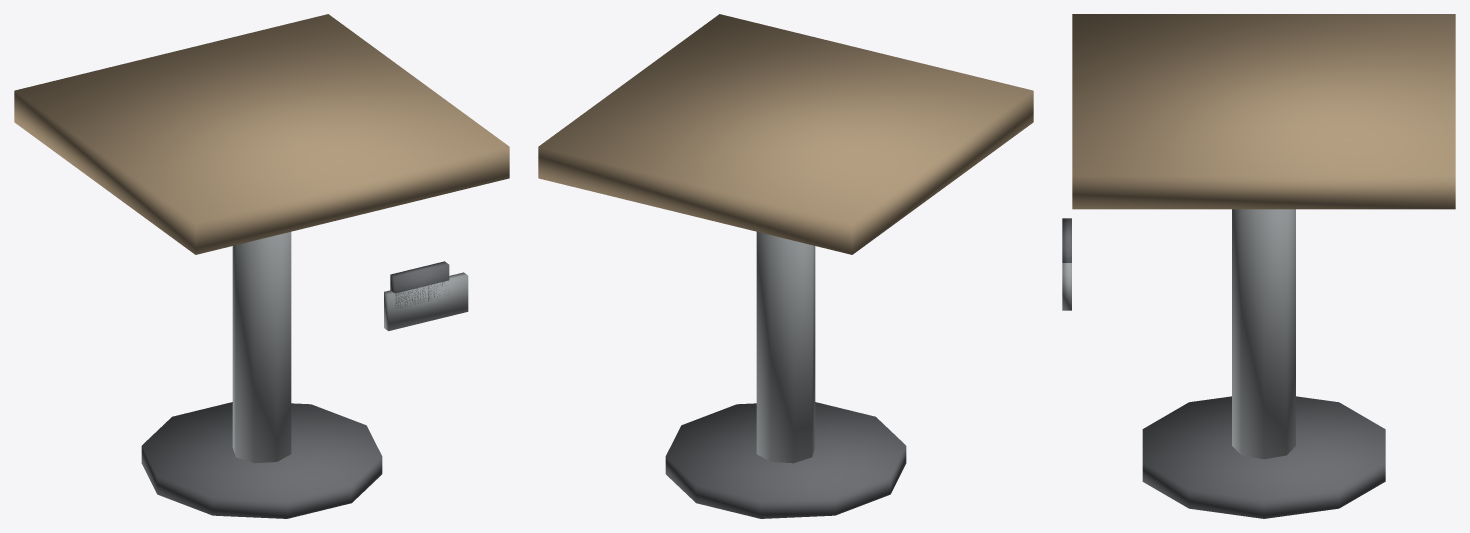
The model's file is diner_two_top__weathered.glb.
3 views of the same model, side by side, from view 1: azimuth 30°, elevation 25°; view 2: azimuth 150°, elevation 25°; view 3: azimuth 270°, elevation 25° (orthographic). The views are drawn at different scales.
Visible parts, largest first — view 1: world; view 2: world; view 3: world.
Boxes of the visible parts, <box> form: world: <box>14,14,509,518</box>; world: <box>538,14,1033,518</box>; world: <box>1062,14,1455,518</box>.
Size of the model in its own units: 0.72 by 0.7673 by 0.7391.
